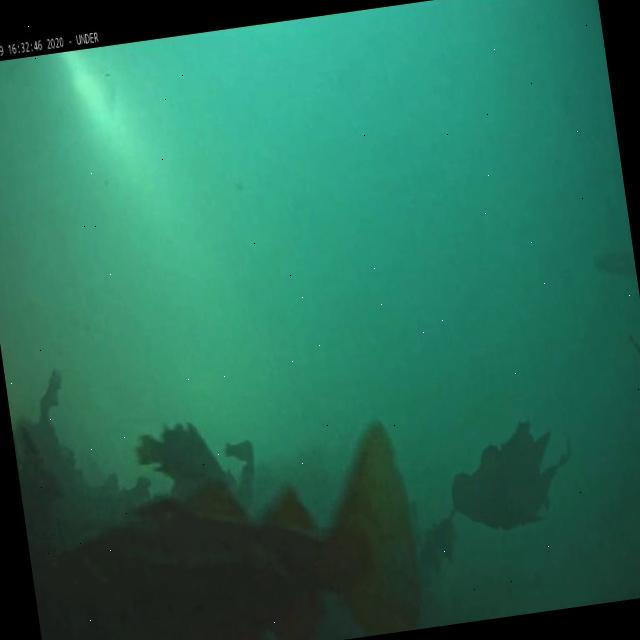fish: (19, 413, 430, 640)
